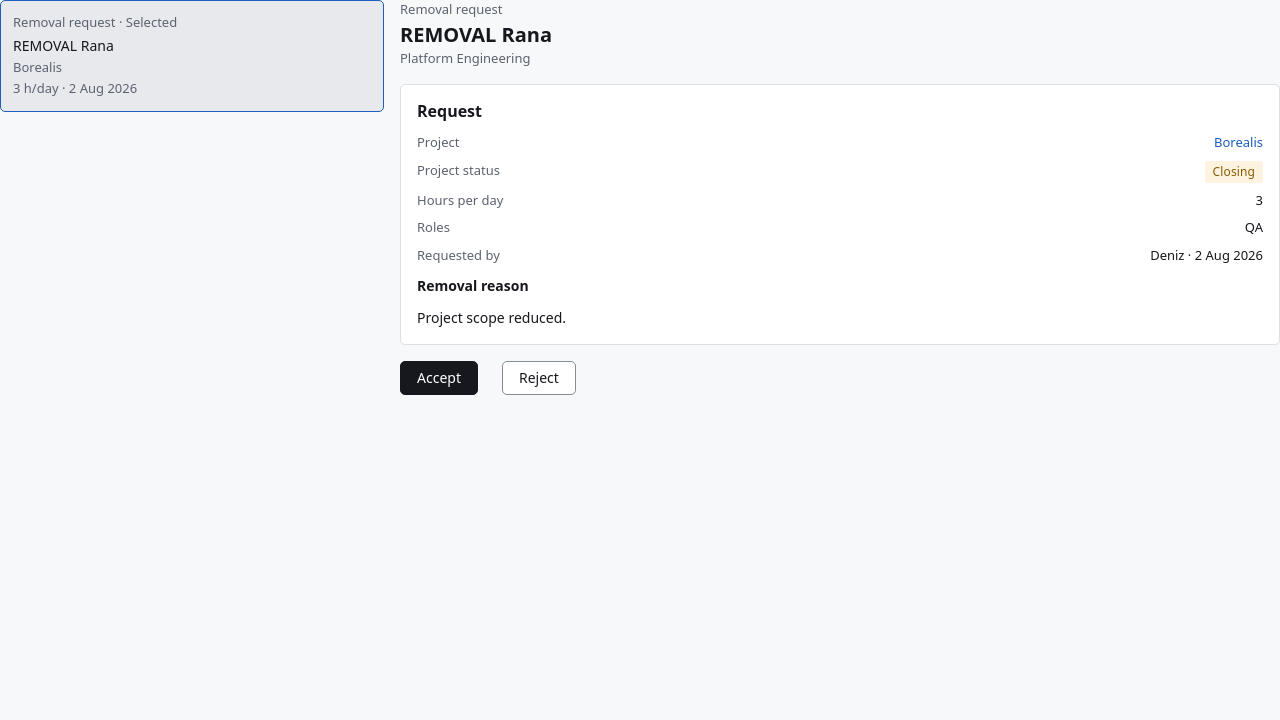
Test case: decisions › names the right thing when rejecting a removal
Click the button "Reject" at {"x": 539, "y": 378}, box [502,360,576,394]
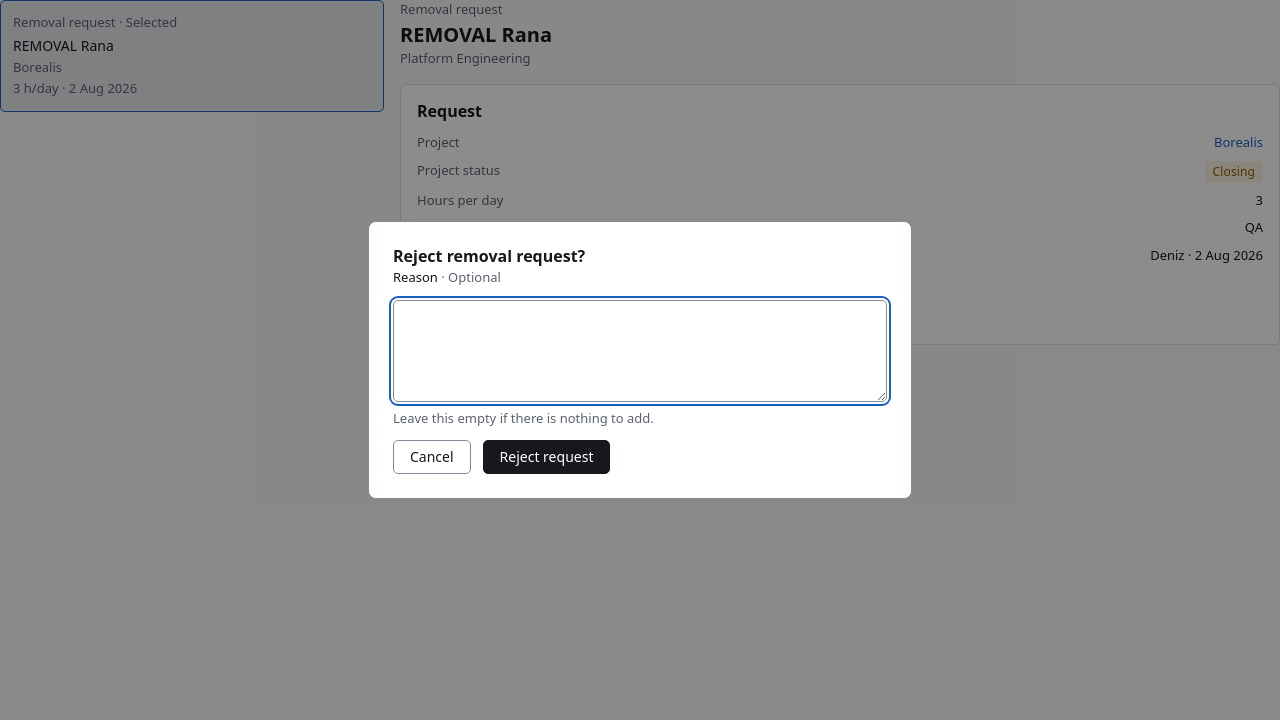
expect the heading "Reject removal request?" is shown: met, box [393,245,585,267]
